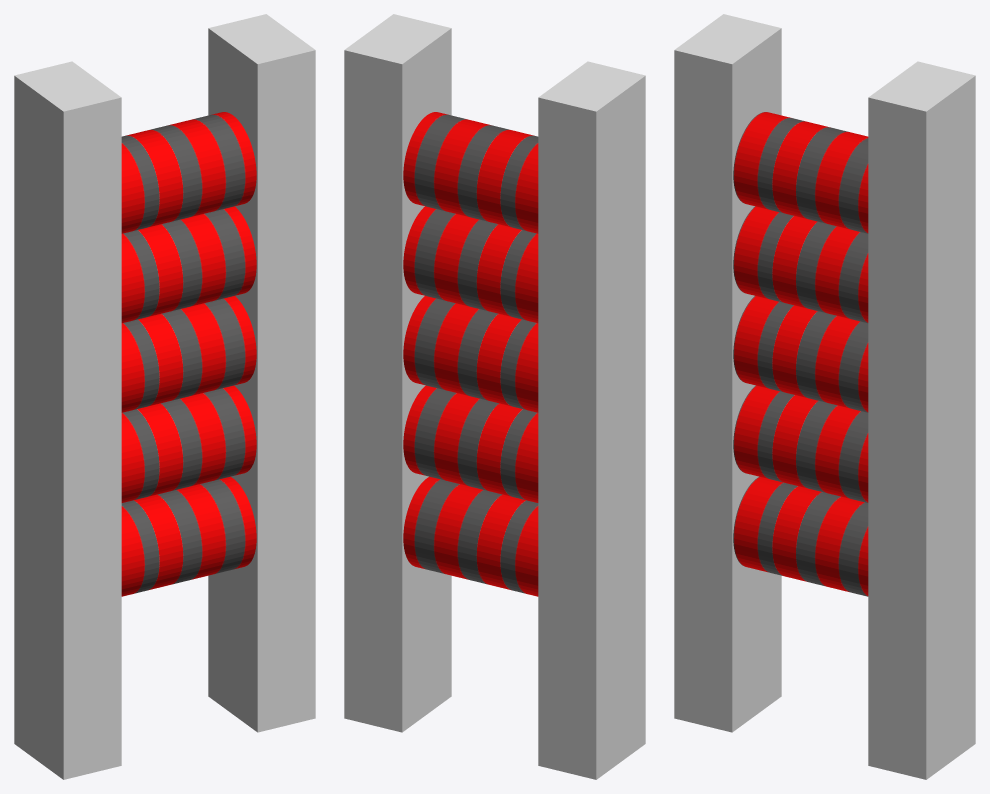
Rendered from Obstacle_Over.fbx.
The picture shows the model from 3 angles, left to right: view 1: azimuth 30°, elevation 25°; view 2: azimuth 150°, elevation 25°; view 3: azimuth 330°, elevation 25°; orthographic projection.
Parts seen in each view (by area): view 1: Cylinder.004; view 2: Cylinder.004; view 3: Cylinder.004.
Part boxes in pixels (<box>): Cylinder.004: <box>14,14,315,779</box>; Cylinder.004: <box>344,14,645,779</box>; Cylinder.004: <box>674,14,975,779</box>.
Bounding box in the file's own units: 590 × 1494 × 200.
Materials: 2 (1 with a texture image).
